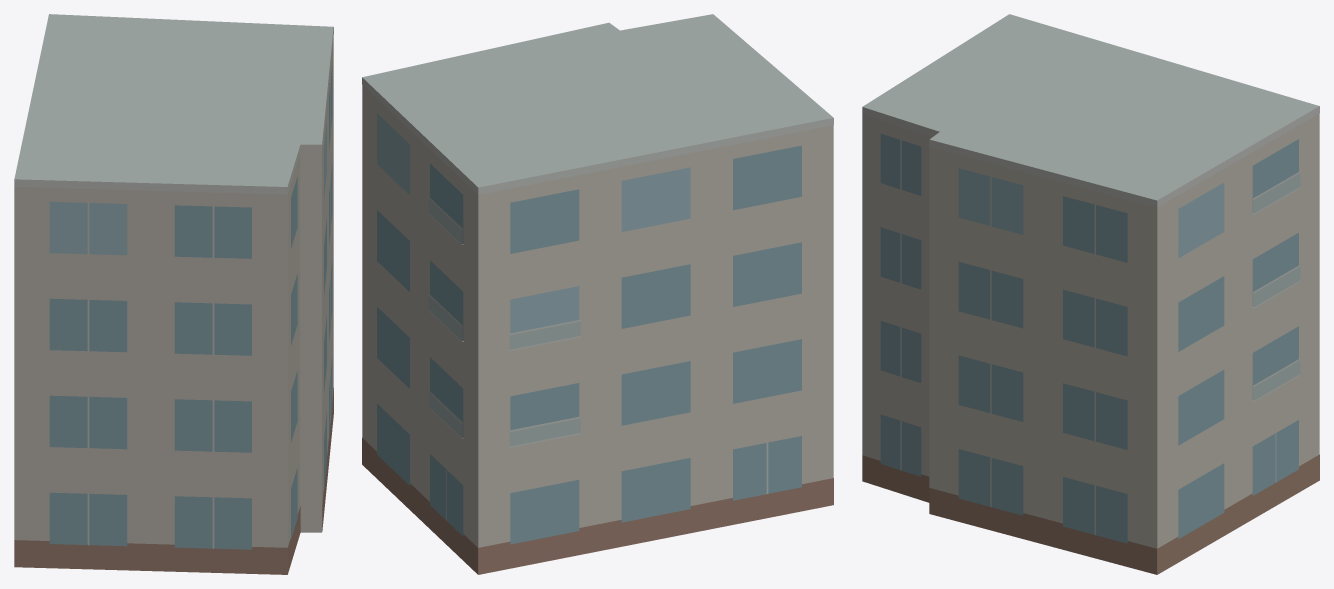
File: survey-upis-32621452.glb
The picture shows the model from 3 angles, left to right: view 1: azimuth 30°, elevation 25°; view 2: azimuth 150°, elevation 25°; view 3: azimuth 270°, elevation 25°; orthographic projection. The views are drawn at different scales.
Visible parts, largest first — view 1: survey-upis-32621452.tmp; view 2: survey-upis-32621452.tmp; view 3: survey-upis-32621452.tmp.
Part boxes in pixels (x1=…): survey-upis-32621452.tmp: x1=14, y1=14, x2=333, y2=574; survey-upis-32621452.tmp: x1=362, y1=14, x2=833, y2=574; survey-upis-32621452.tmp: x1=862, y1=14, x2=1319, y2=574.
Size of the model in its own units: 13.57 by 12.7 by 14.07.
